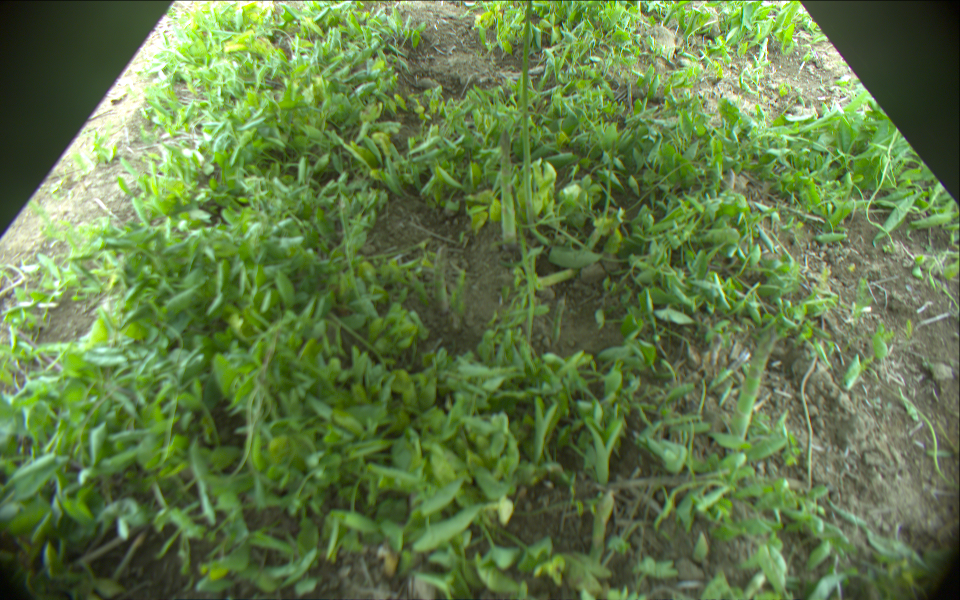aspa: (726, 326, 777, 446), (520, 1, 536, 230), (500, 129, 518, 250)
